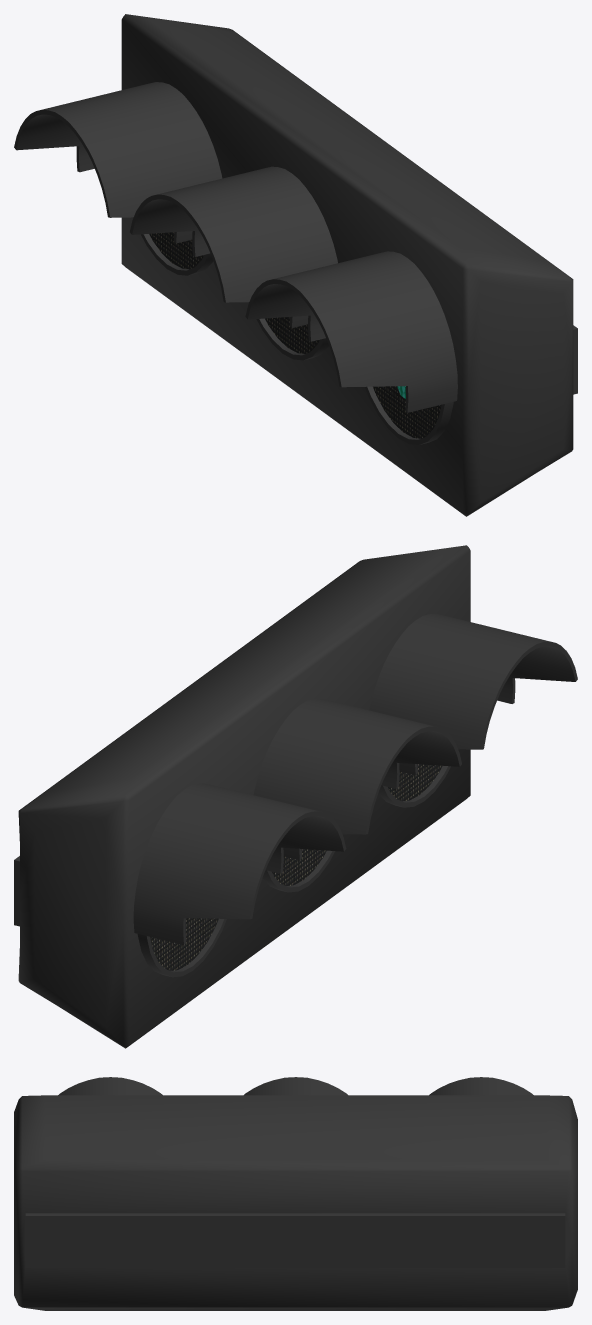
File: 横向左转灯_GreenLight.fbx
3 renders of one model, top to bottom at view 1: azimuth 30°, elevation 25°; view 2: azimuth 150°, elevation 25°; view 3: azimuth 270°, elevation 25°, orthographic. The views are drawn at different scales.
Visible parts, largest first — view 1: 横向左转灯_GreenLight; view 2: 横向左转灯_GreenLight; view 3: 横向左转灯_GreenLight.
Boxes of the visible parts, left/top/right/bottom form: 横向左转灯_GreenLight: left=14, top=14, right=577, bottom=516; 横向左转灯_GreenLight: left=14, top=545, right=577, bottom=1048; 横向左转灯_GreenLight: left=14, top=1077, right=577, bottom=1310.
Bounding box in the file's own units: 0.6 × 0.65 × 1.58.
Materials: 3 (2 with a texture image).
